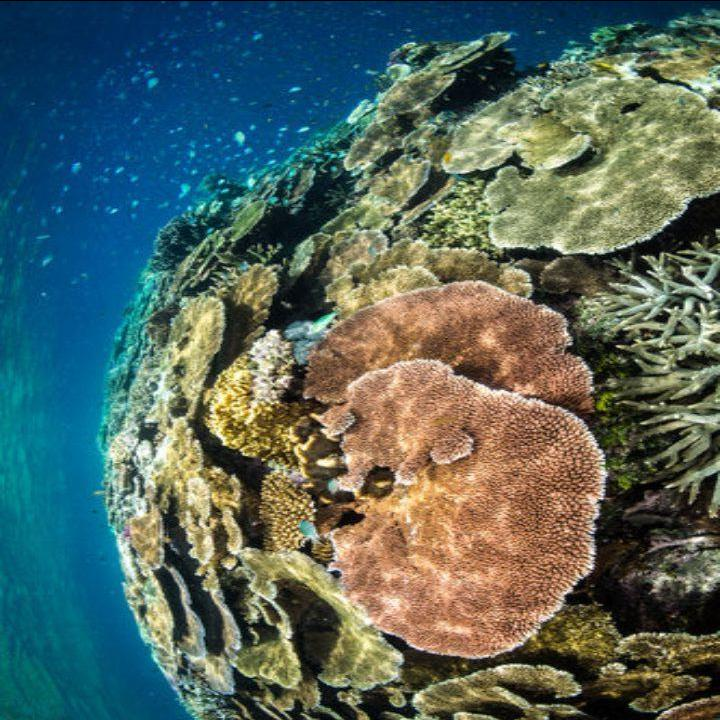Healthy Coral: (110, 12, 719, 717)
